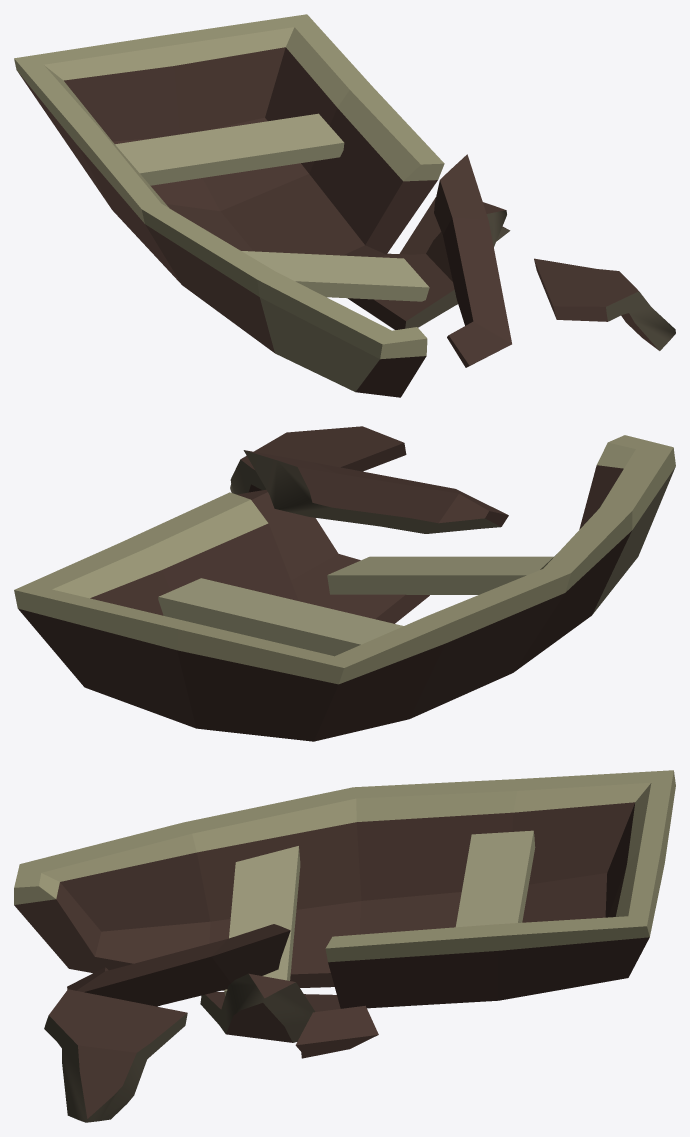
Rendered from Shipwreck 1.fbx.
3 renders of one model, top to bottom at view 1: azimuth 30°, elevation 25°; view 2: azimuth 150°, elevation 25°; view 3: azimuth 270°, elevation 25°, orthographic. The views are drawn at different scales.
Parts seen in each view (by area): view 1: Shipwreck; view 2: Shipwreck; view 3: Shipwreck.
Part boxes in pixels (bbox=[...]): Shipwreck: bbox=[14, 14, 675, 397]; Shipwreck: bbox=[14, 426, 675, 741]; Shipwreck: bbox=[14, 770, 675, 1122].
Bounding box in the file's own units: 2.86 × 3.93 × 1.12.
